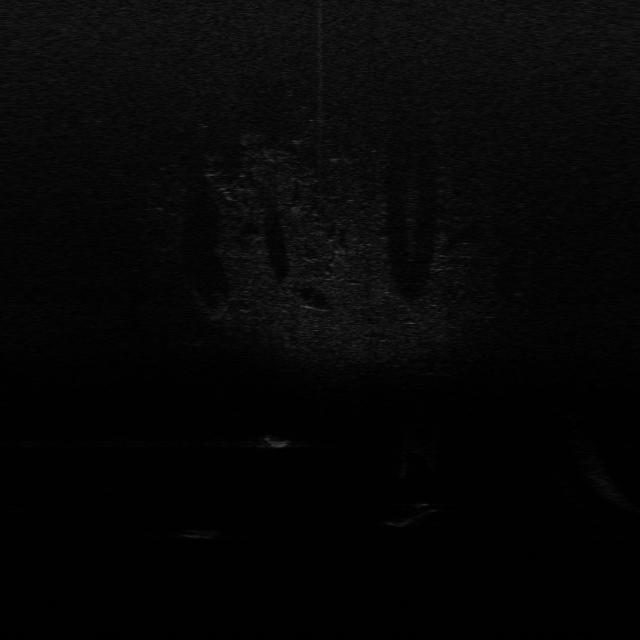cube: (179, 526, 217, 542)
square cage: (254, 431, 294, 451)
tyre: (382, 498, 438, 529)
